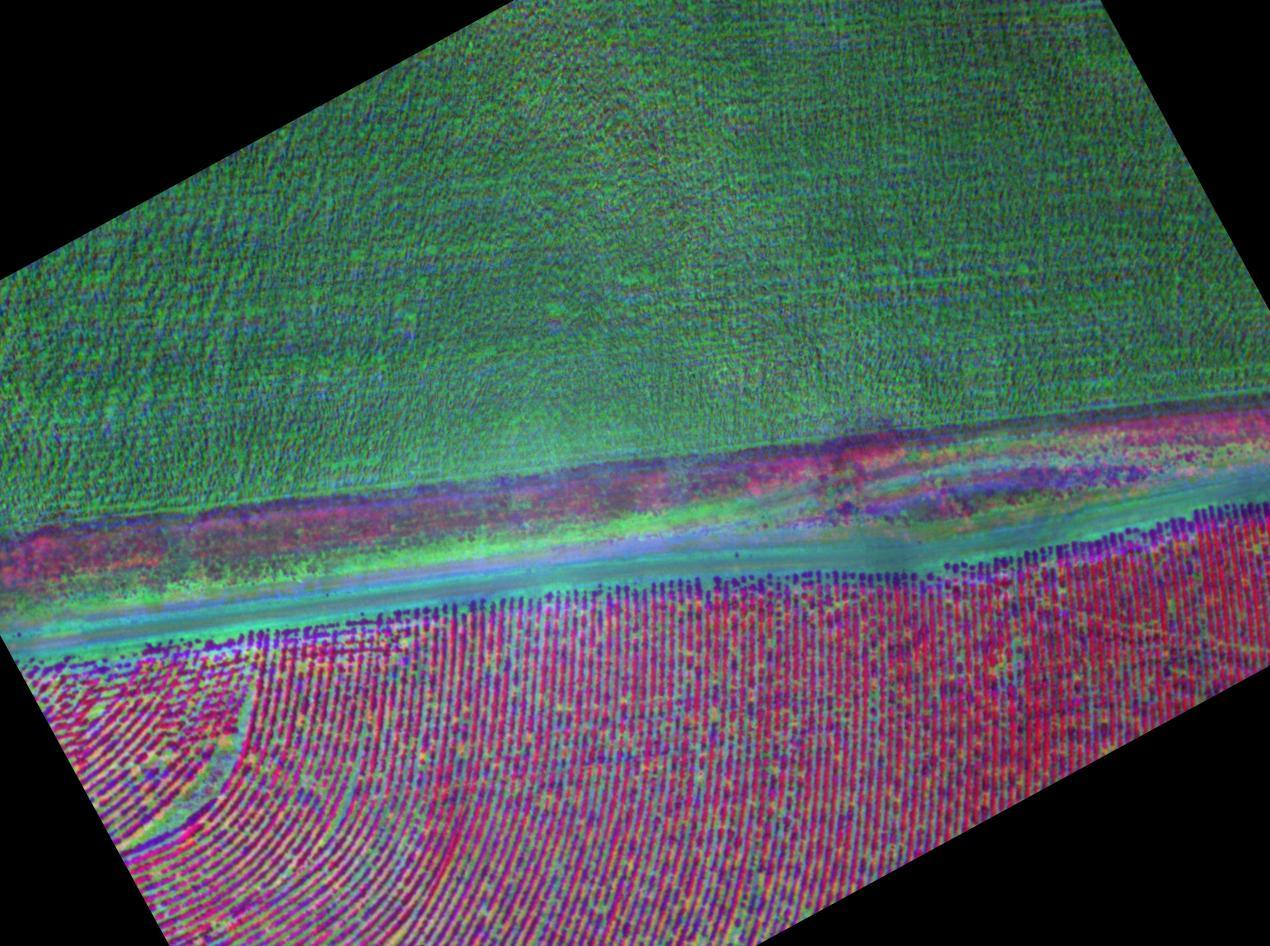dc: (93, 678, 269, 853), (961, 618, 1046, 696), (313, 723, 368, 841), (691, 873, 751, 946)
